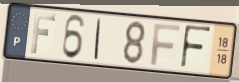6: (60, 13, 86, 61)
8: (121, 19, 148, 66)
F: (178, 23, 213, 72), (149, 23, 182, 68), (29, 11, 58, 55)
I: (92, 17, 103, 62)
